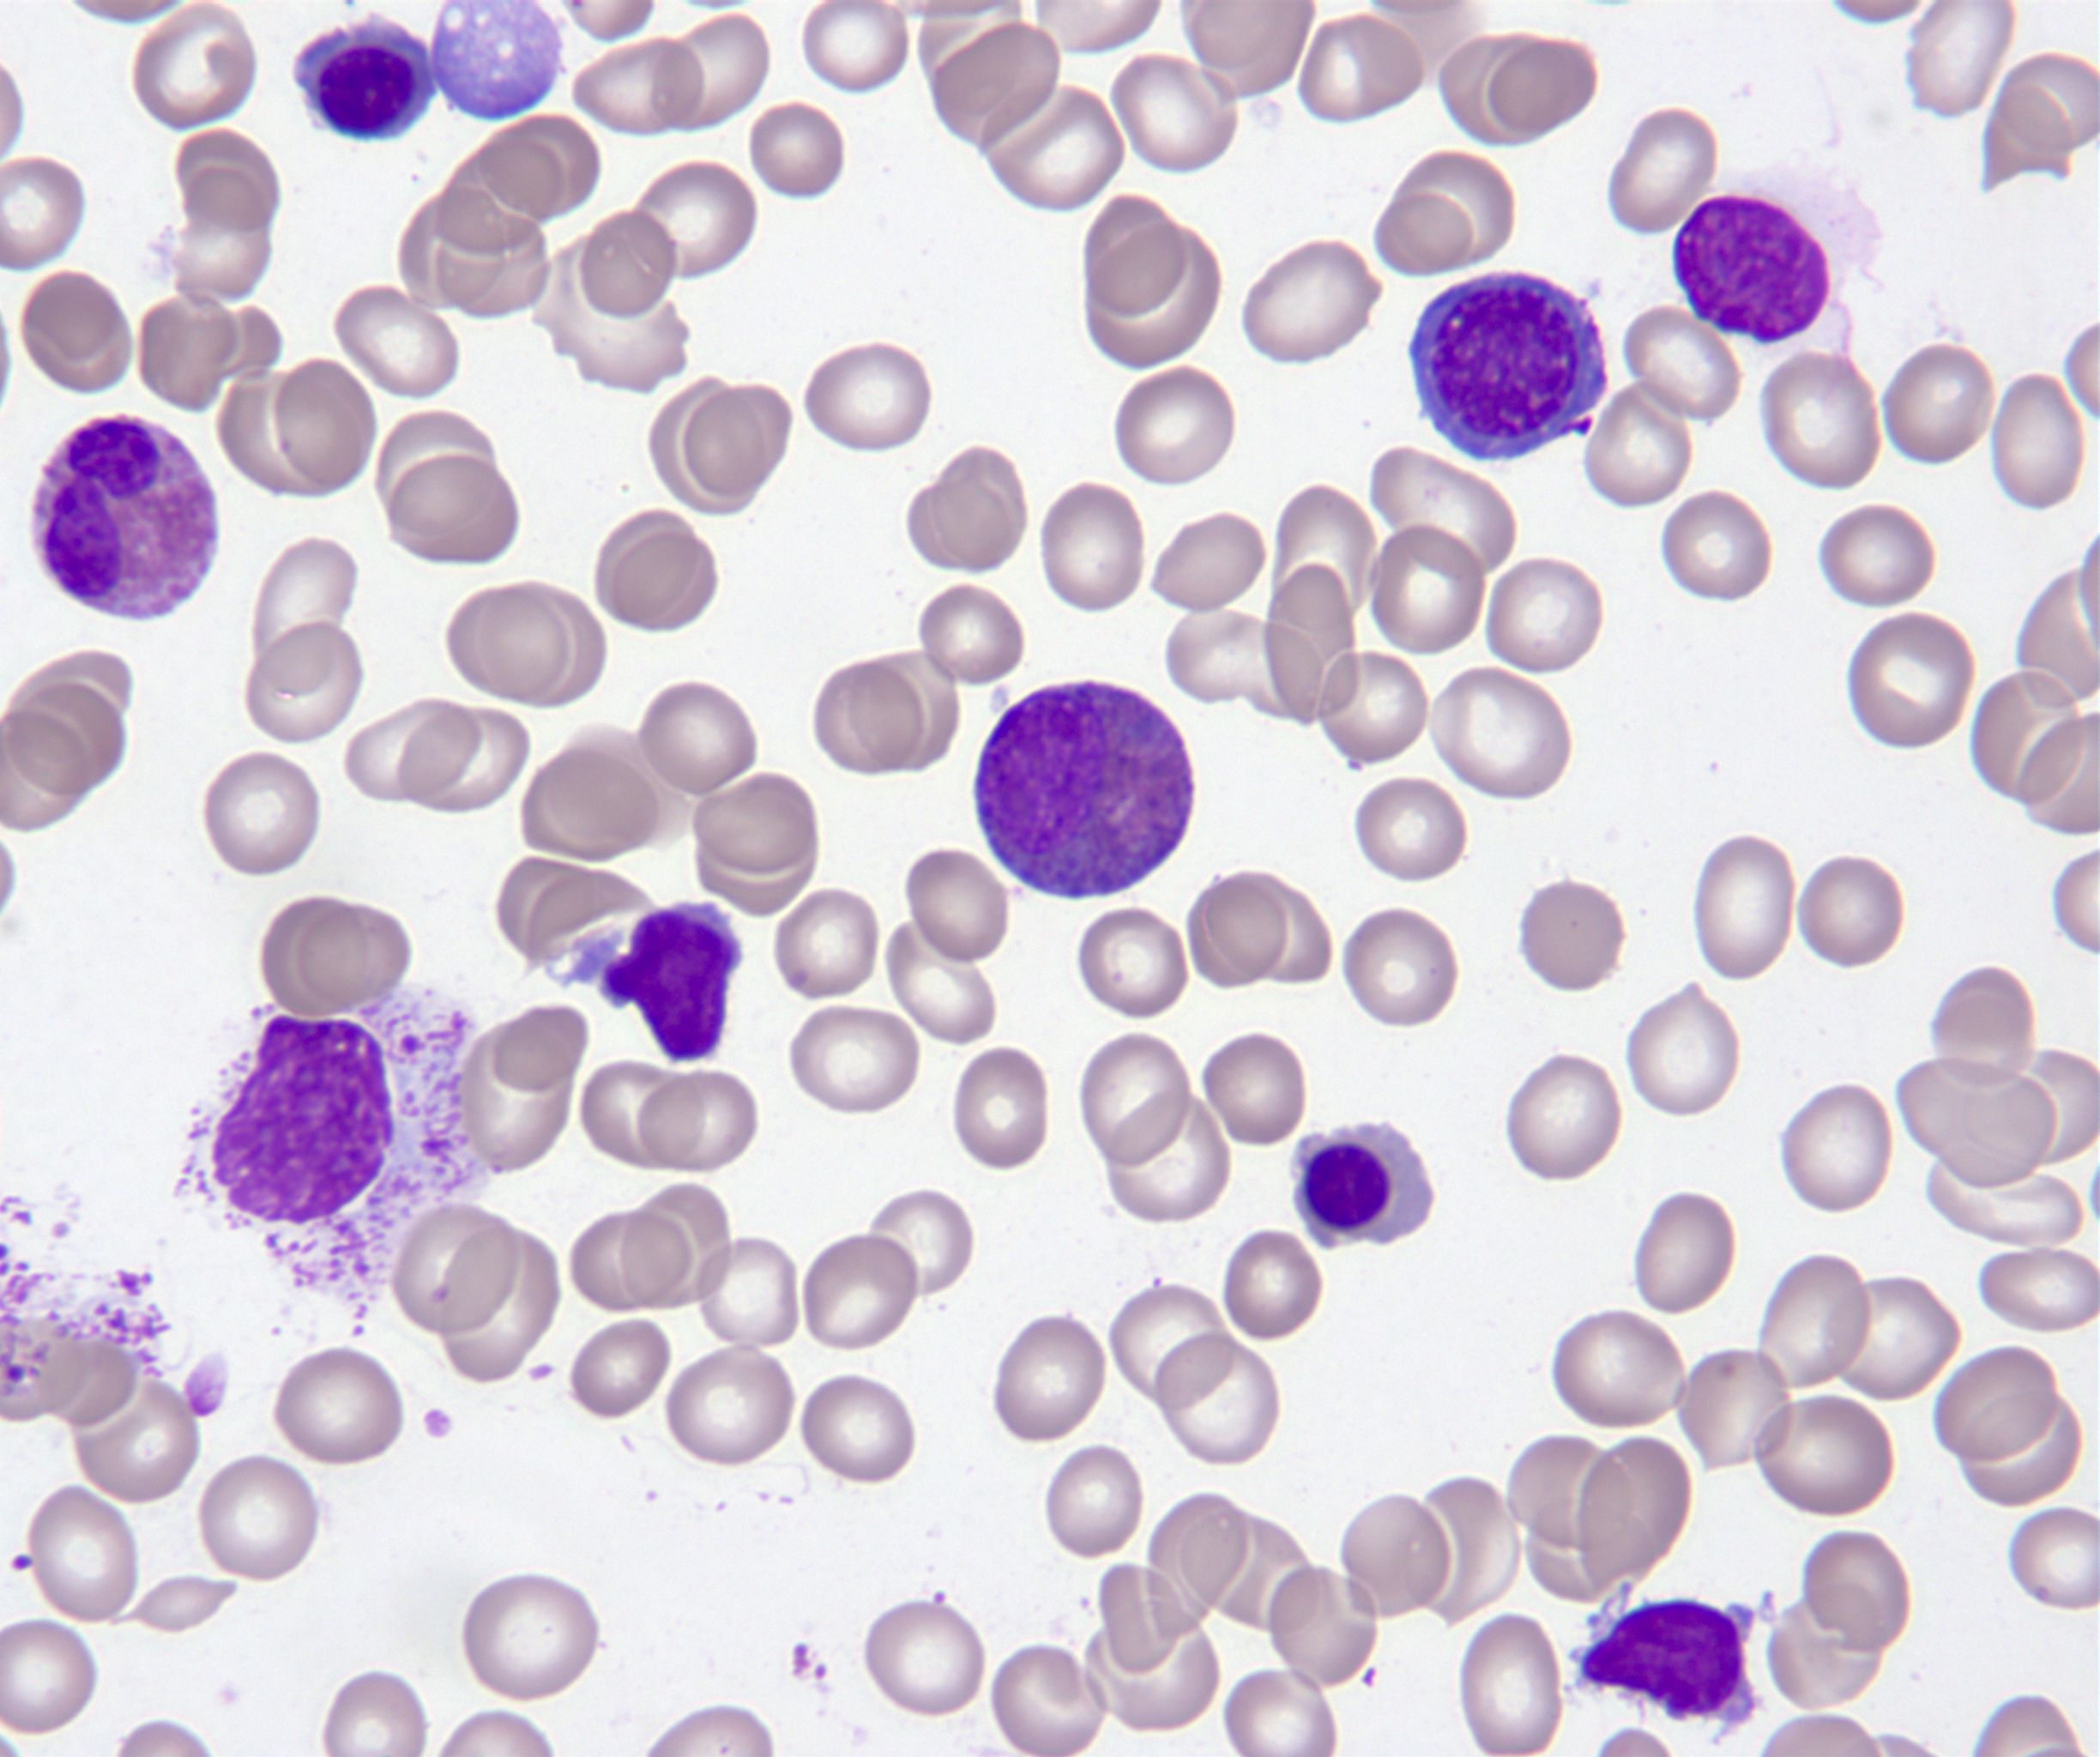23: (1413, 272, 1608, 461)
24: (295, 12, 436, 136), (1294, 1124, 1432, 1246)
32: (556, 902, 740, 1061), (1568, 1577, 1758, 1727)
E1: (975, 680, 1195, 899)
E4: (33, 412, 220, 619)
x: (176, 986, 488, 1307), (1671, 166, 1877, 344), (429, 0, 562, 120)
